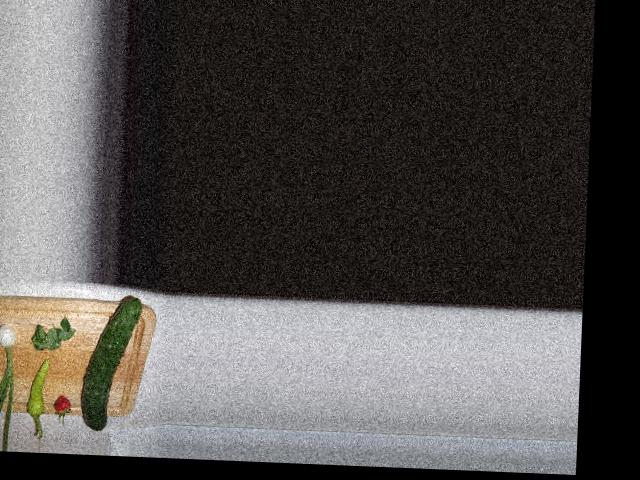cucumber: (81, 295, 142, 431)
